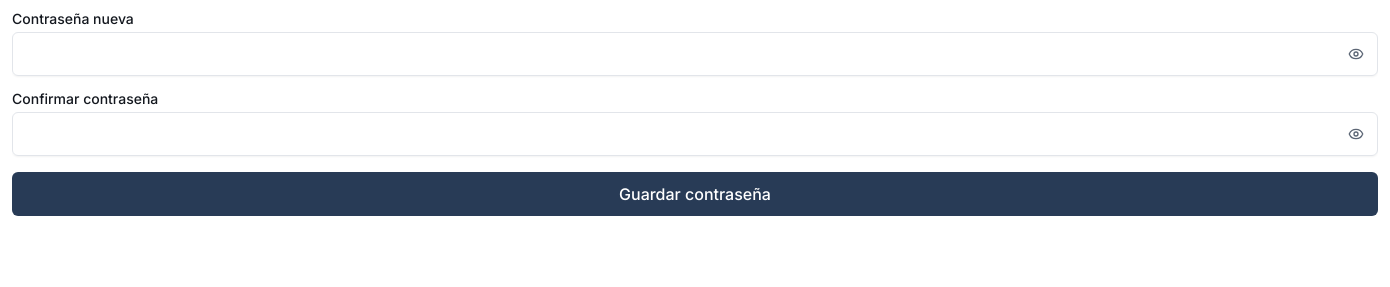
Scenario: RestablecerContrasenaForm › muestra el error del servidor cuando el token ya no es válido
Type "12345678" into the password field labelled "Contraseña nueva" at (695, 54), box [12,32,1378,76]
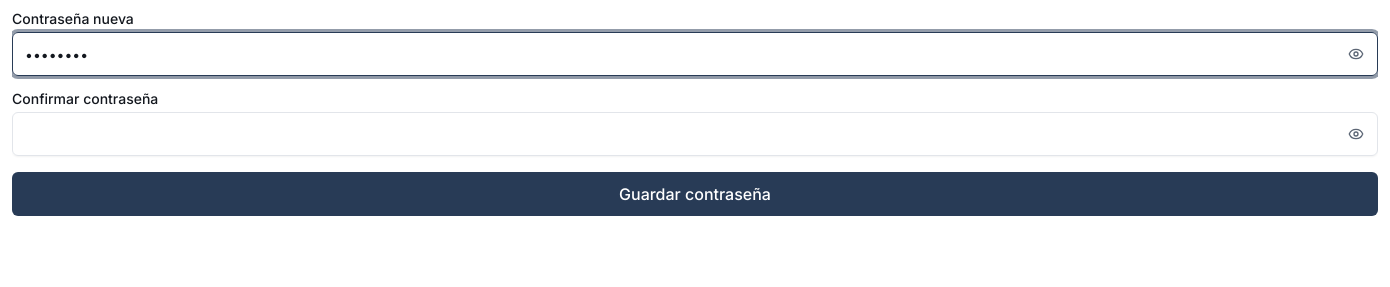
Type "12345678" into the password field labelled "Confirmar contraseña" at (695, 134), box [12,112,1378,156]
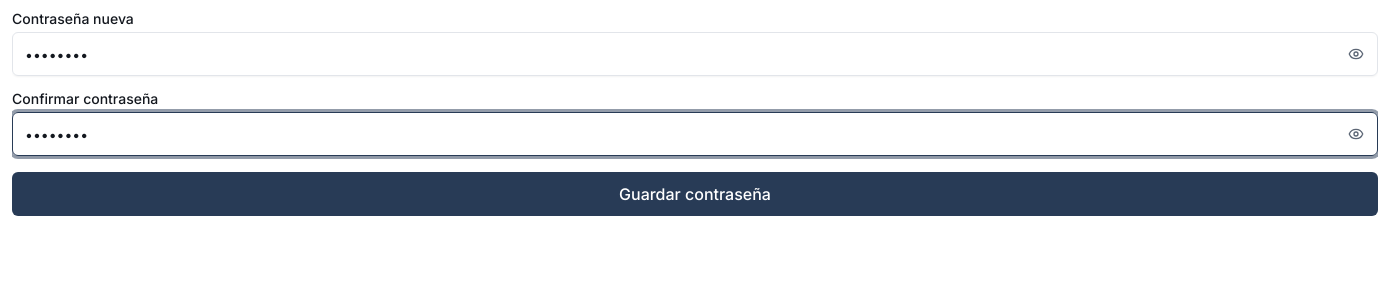
Click the button "Guardar contraseña" at (695, 194), box [12,172,1378,216]
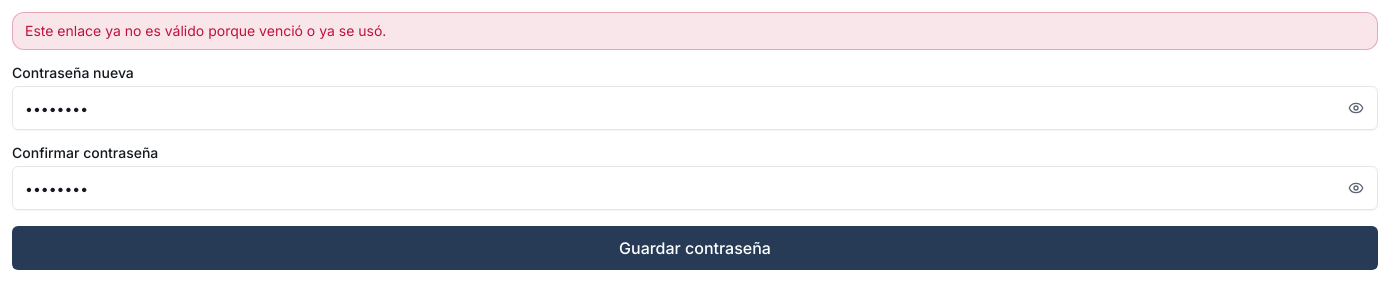
Check: the message shows "venció o ya se usó", box [25,22,386,39]
